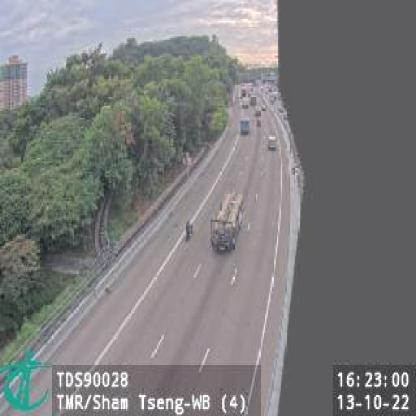Car: (239, 117, 251, 134), (268, 134, 277, 149)
Truck: (210, 192, 245, 254)
